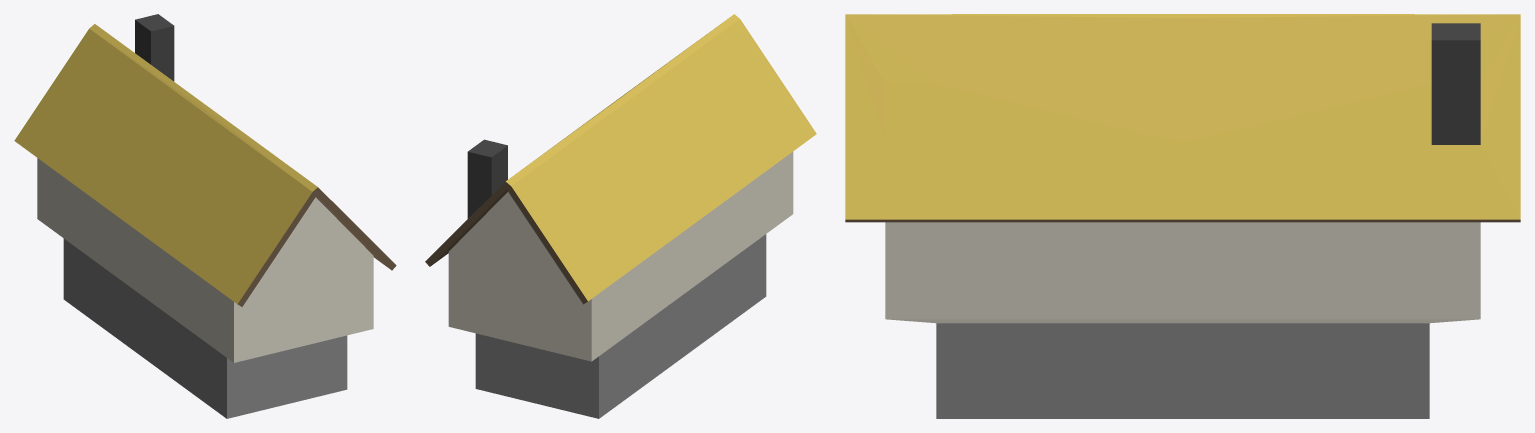
Rendered from VilaNova_House1x2_textured.fbx.
The picture shows the model from 3 angles, left to right: view 1: azimuth 30°, elevation 25°; view 2: azimuth 150°, elevation 25°; view 3: azimuth 270°, elevation 25°; orthographic projection. The views are drawn at different scales.
Visible parts, largest first — view 1: House1x2_LOD0; view 2: House1x2_LOD0; view 3: House1x2_LOD0.
Part boxes in pixels (x1,y1,x2,y2): House1x2_LOD0: (14, 14, 396, 418); House1x2_LOD0: (425, 14, 816, 418); House1x2_LOD0: (845, 14, 1520, 418).
Bounding box in the file's own units: 228 × 337 × 554.
